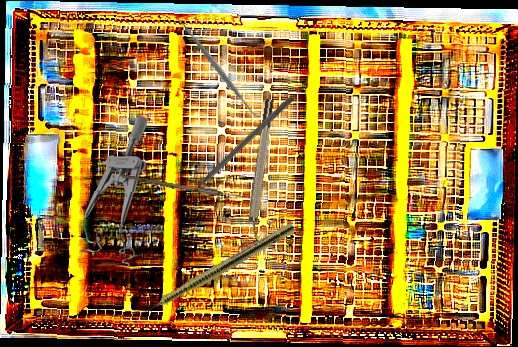Fixation Ring: (239, 98, 283, 251)
Handpiece: (128, 219, 298, 325)
Pusher: (178, 94, 295, 204)
Spatula Surgical: (172, 12, 264, 124)
Speculum: (80, 115, 148, 268)
Surgical Spoon: (119, 174, 258, 202)
